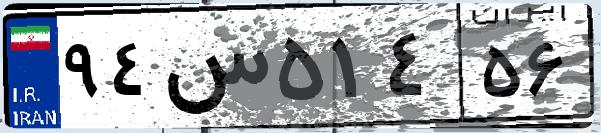1: (330, 28, 385, 110)
4: (385, 28, 445, 110), (110, 28, 158, 98)
5: (270, 28, 330, 110), (475, 38, 525, 113)
6: (525, 38, 570, 115)
9: (57, 26, 110, 100)
س: (158, 20, 270, 120)
